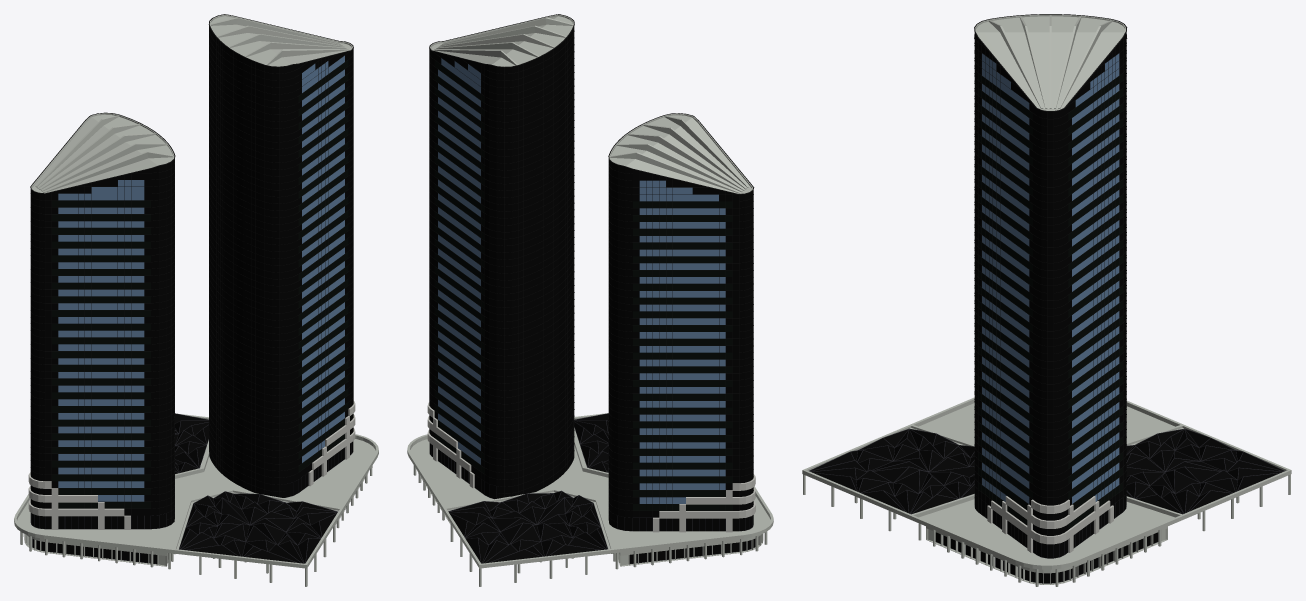
File: zhiyu.fbx
3 views of the same model, side by side, from view 1: azimuth 30°, elevation 25°; view 2: azimuth 150°, elevation 25°; view 3: azimuth 270°, elevation 25° (orthographic). The views are drawn at different scales.
Parts seen in each view (by area): view 1: Archmodels71_077_05, Archmodels71_077_03, Archmodels71_077_09, Archmodels71_077_08, Archmodels71_077_04, Archmodels71_077_02, Archmodels71_077_06, Archmodels71_077_01, Archmodels71_077_10, Archmodels71_077_07; view 2: Archmodels71_077_05, Archmodels71_077_03, Archmodels71_077_09, Archmodels71_077_04, Archmodels71_077_08, Archmodels71_077_02, Archmodels71_077_06, Archmodels71_077_01, Archmodels71_077_07, Archmodels71_077_10; view 3: Archmodels71_077_04, Archmodels71_077_05, Archmodels71_077_03, Archmodels71_077_09, Archmodels71_077_02, Archmodels71_077_08, Archmodels71_077_01, Archmodels71_077_06.
Boxes of the visible parts, x1,y1,x2,y2 form: Archmodels71_077_05: [30, 27, 353, 528]; Archmodels71_077_03: [52, 60, 348, 508]; Archmodels71_077_09: [58, 55, 344, 501]; Archmodels71_077_08: [30, 14, 353, 524]; Archmodels71_077_04: [14, 14, 378, 586]; Archmodels71_077_02: [32, 413, 337, 563]; Archmodels71_077_06: [28, 401, 355, 529]; Archmodels71_077_01: [32, 413, 337, 564]; Archmodels71_077_10: [30, 443, 352, 529]; Archmodels71_077_07: [30, 458, 174, 519]; Archmodels71_077_05: [429, 26, 753, 531]; Archmodels71_077_03: [434, 60, 732, 510]; Archmodels71_077_09: [438, 58, 725, 503]; Archmodels71_077_04: [407, 14, 773, 586]; Archmodels71_077_08: [429, 14, 754, 520]; Archmodels71_077_02: [449, 413, 754, 563]; Archmodels71_077_06: [427, 402, 755, 532]; Archmodels71_077_01: [448, 413, 755, 563]; Archmodels71_077_07: [608, 459, 753, 522]; Archmodels71_077_10: [430, 444, 753, 531]; Archmodels71_077_04: [802, 14, 1291, 586]; Archmodels71_077_05: [974, 32, 1126, 558]; Archmodels71_077_03: [978, 73, 1122, 529]; Archmodels71_077_09: [982, 53, 1119, 503]; Archmodels71_077_02: [809, 429, 1284, 583]; Archmodels71_077_08: [974, 14, 1127, 535]; Archmodels71_077_01: [809, 428, 1284, 583]; Archmodels71_077_06: [987, 496, 1113, 552].
Size of the model in its own units: 157 by 193 by 170.
